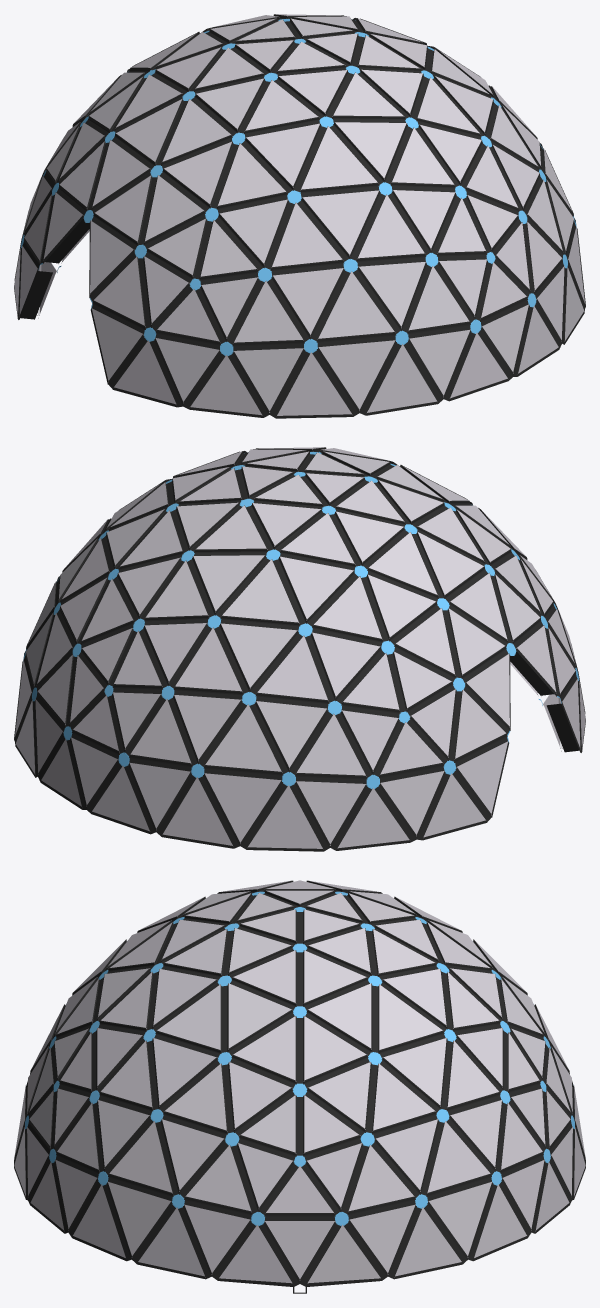
The model's file is Research Tent.fbx.
The picture shows the model from 3 angles, top to bottom: view 1: azimuth 30°, elevation 25°; view 2: azimuth 150°, elevation 25°; view 3: azimuth 270°, elevation 25°; orthographic projection.
Visible parts, largest first — view 1: tent outside; view 2: tent outside; view 3: tent outside.
Part boxes in pixels (box(x1,y1,x2,y2)): tent outside: box(14, 14, 585, 418); tent outside: box(14, 447, 585, 851); tent outside: box(14, 880, 585, 1293).
Size of the model in its own units: 194 by 102 by 199.
